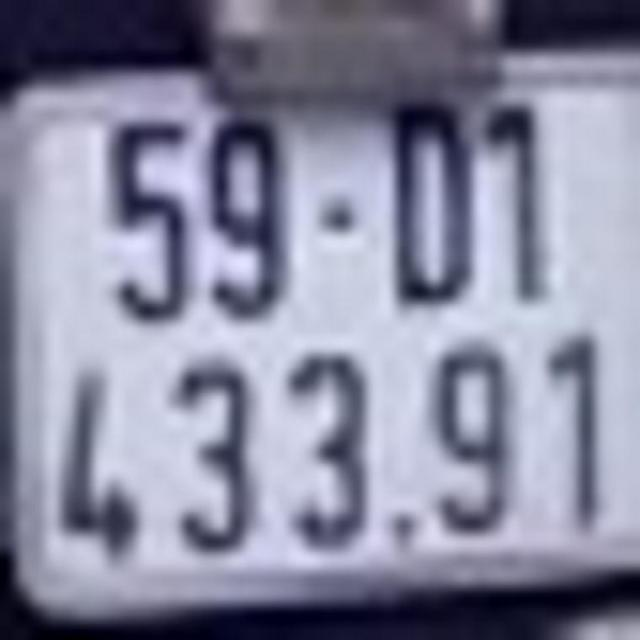1: (544, 322, 612, 545), (491, 99, 552, 304)
3: (284, 344, 376, 553), (171, 357, 248, 554)
4: (64, 352, 147, 577)
5: (110, 108, 188, 327)
9: (207, 125, 282, 318), (436, 343, 504, 532)
D: (386, 107, 482, 311)
